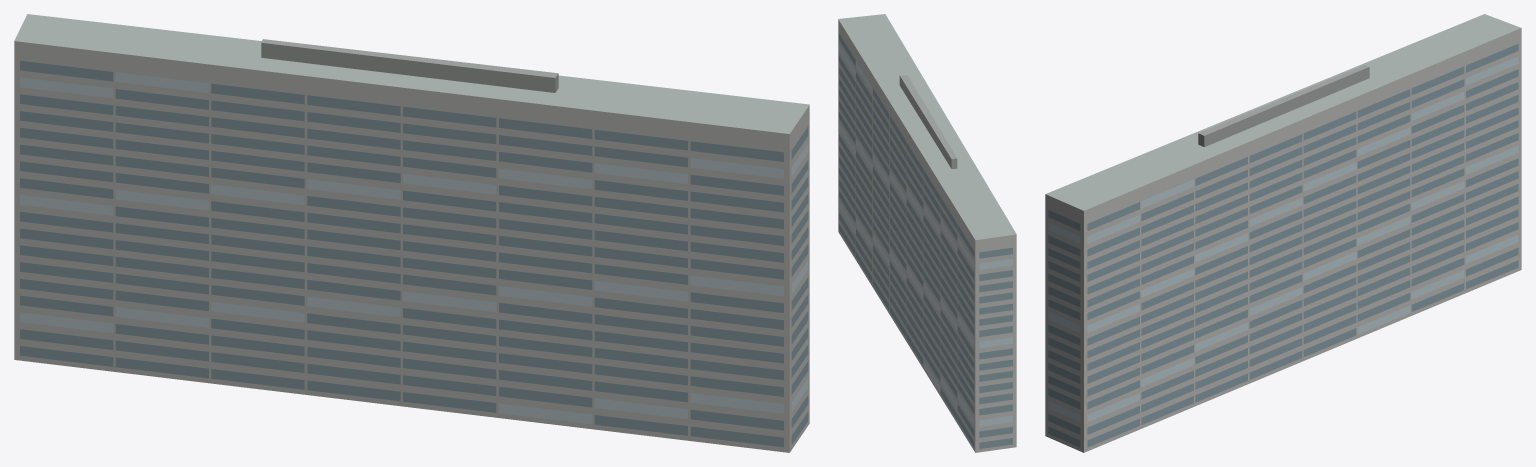
Rendered from apt-a14206001.glb.
3 views of the same model, side by side, from view 1: azimuth 30°, elevation 25°; view 2: azimuth 150°, elevation 25°; view 3: azimuth 270°, elevation 25° (orthographic). The views are drawn at different scales.
Parts seen in each view (by area): view 1: apt-a14206001; view 2: apt-a14206001; view 3: apt-a14206001.
Boxes of the visible parts, x1,y1,x2,y2 form: apt-a14206001: (14, 14, 809, 452); apt-a14206001: (838, 14, 1016, 452); apt-a14206001: (1045, 14, 1521, 452).
Bounding box in the file's own units: 84.99 × 51 × 86.85.
